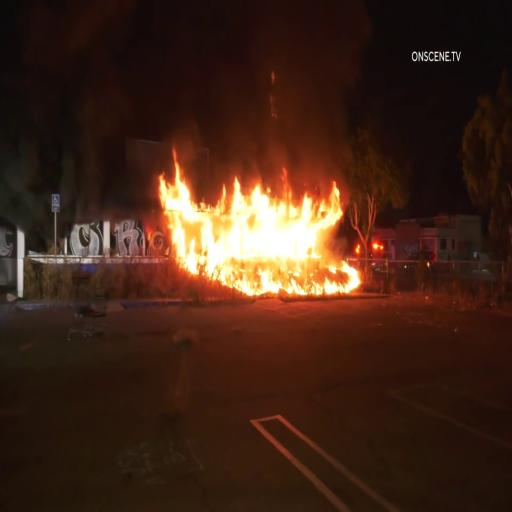fire: (161, 153, 366, 300)
